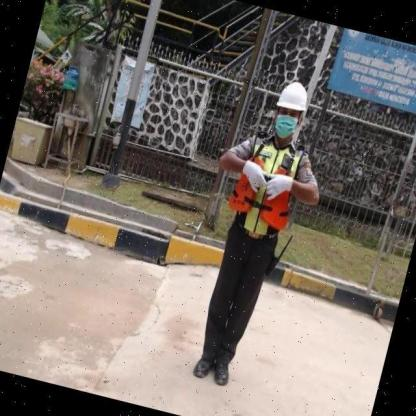bota: (190, 351, 216, 384), (209, 357, 233, 389)
